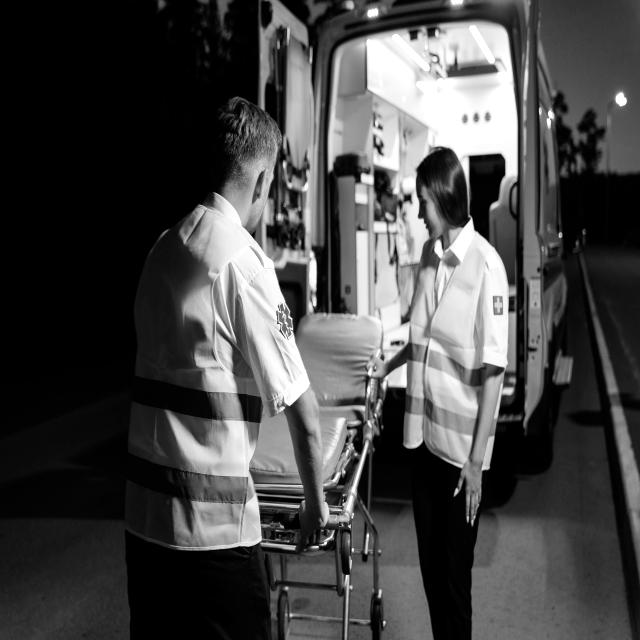Vest: (131, 198, 268, 556), (410, 236, 504, 474)
